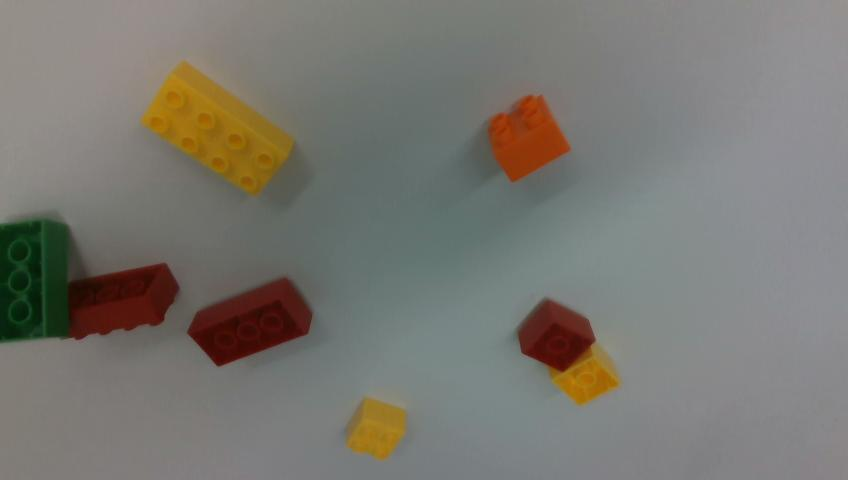2x2_orange: (489, 95, 570, 181)
2x2_red: (518, 298, 595, 370)
2x2_yellow: (548, 344, 620, 405), (347, 398, 406, 459)
4x2_green: (0, 218, 67, 342)
4x2_red: (189, 278, 311, 365), (69, 263, 178, 338)
4x2_yellow: (144, 62, 294, 195)
